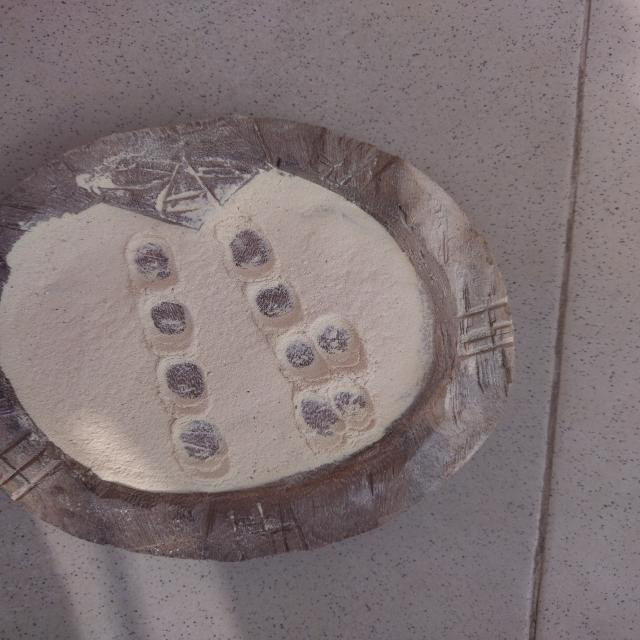double: (268, 322, 370, 382), (290, 380, 380, 445)
single: (122, 228, 182, 294), (216, 220, 280, 281), (166, 412, 228, 473), (138, 292, 198, 353), (154, 352, 214, 413), (238, 280, 308, 332)
